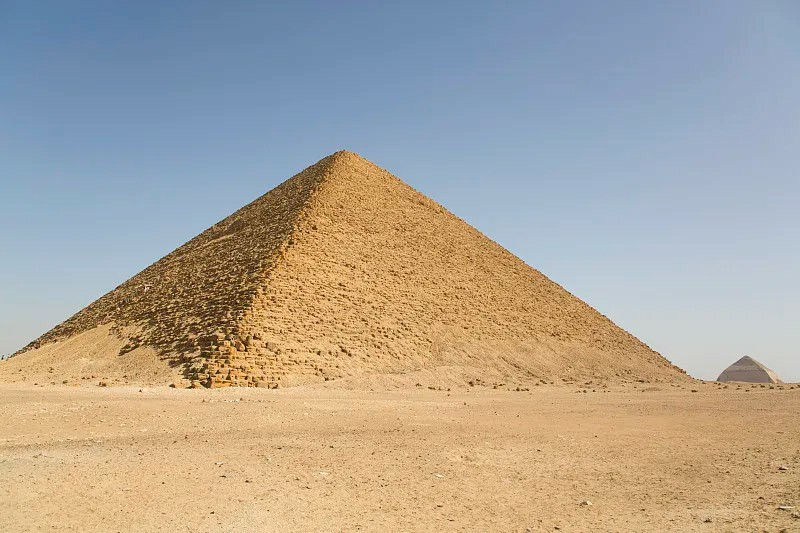Pyramid: (6, 148, 699, 388)
